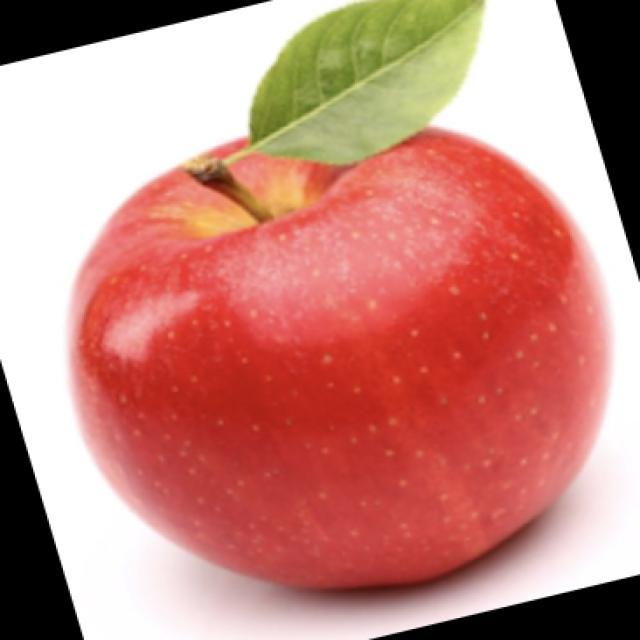Fresh Apple: (92, 127, 618, 590)
